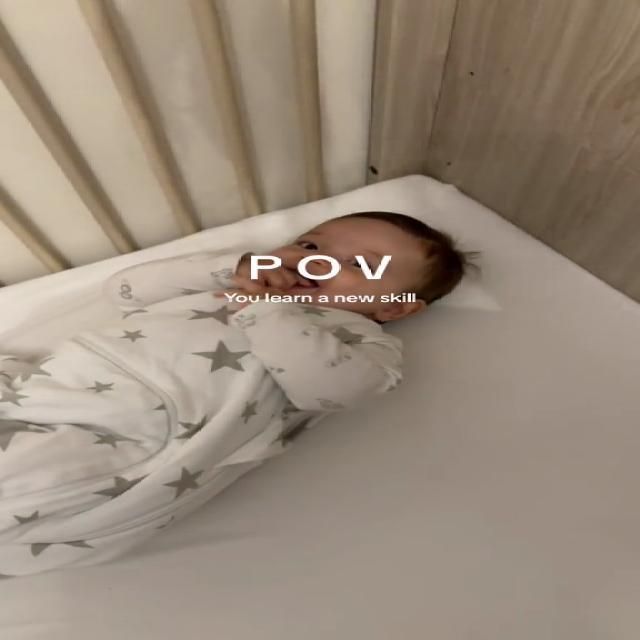baby: (0, 204, 483, 582)
